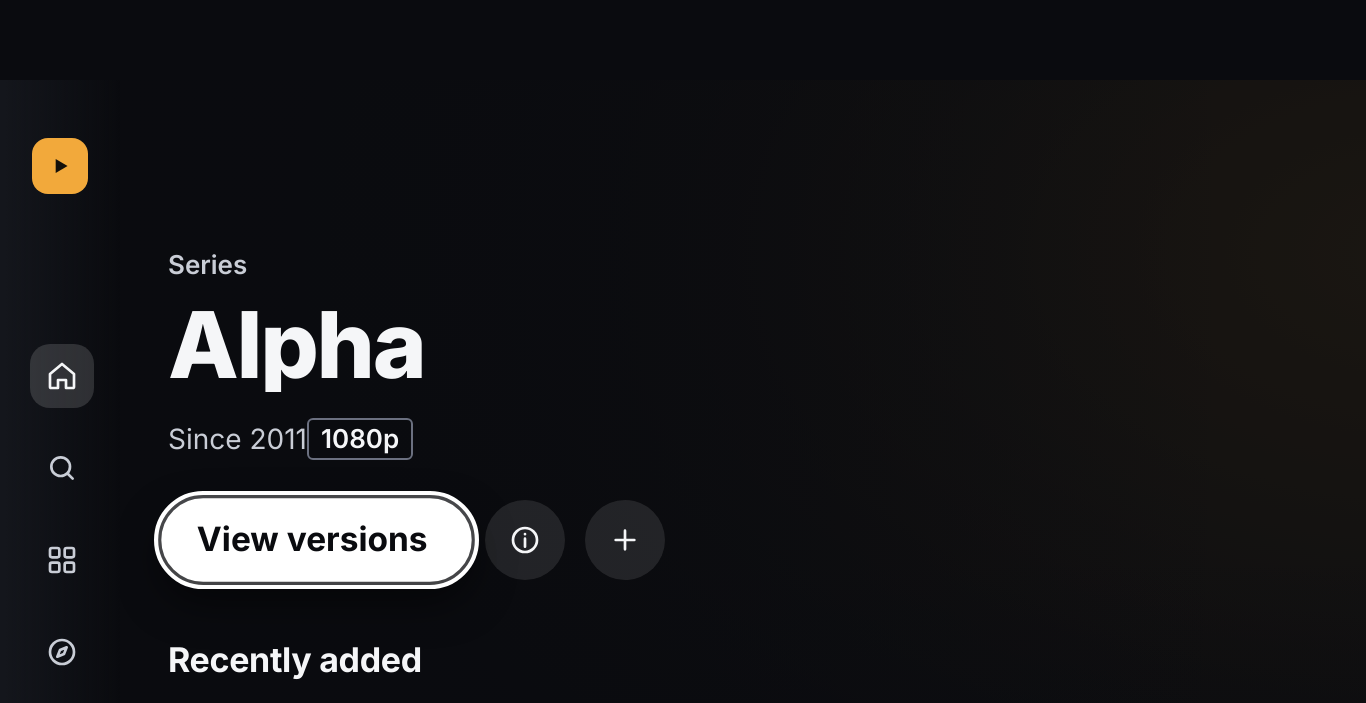
TV Info season drill-down › keeps Back and Close on the first row and returns Back through the Back button too
The width and height of the screenshot is (1366, 703).
What coordinates should you click on to do the following:
click the button named "Info"
I would click on:
 (525, 540)
Its box is [485,500,565,580].
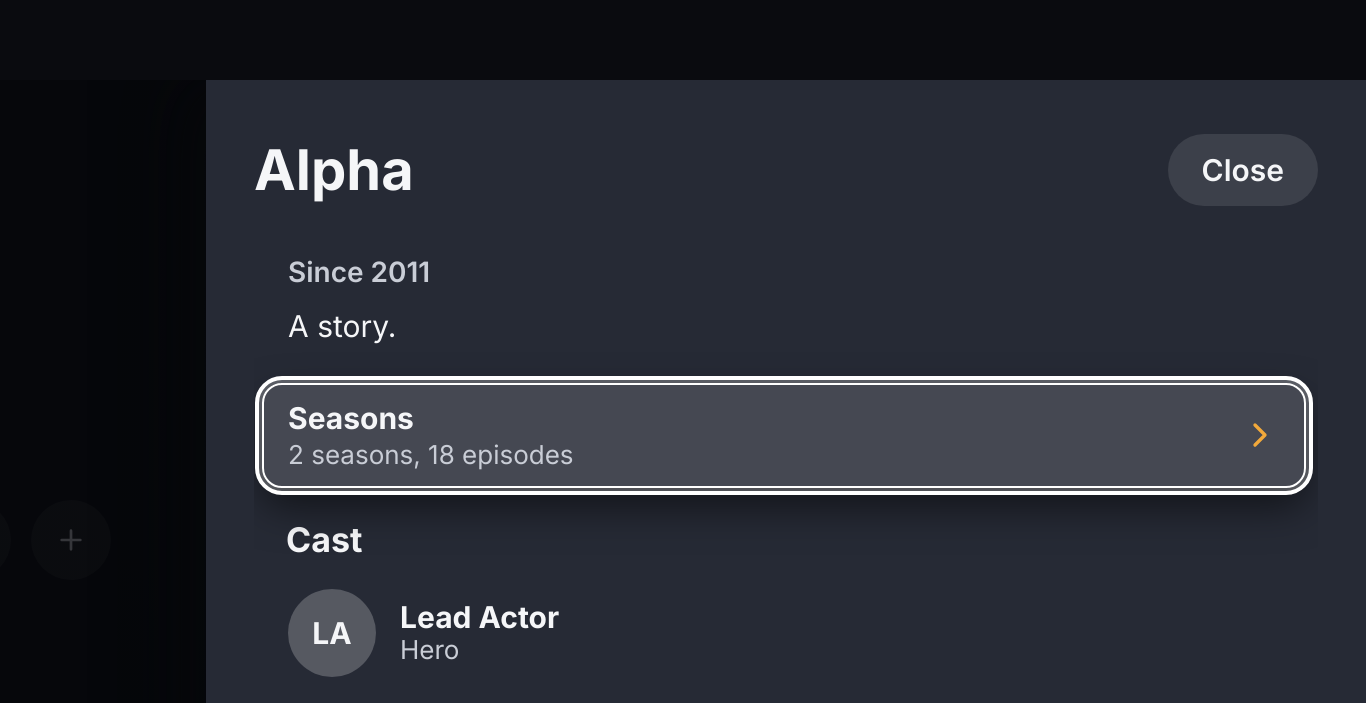
What coordinates should you click on to do the following:
click the button "Seasons 2 seasons, 18 episodes"
I would click on:
 (351, 418)
Its box is [262,383,1306,488].
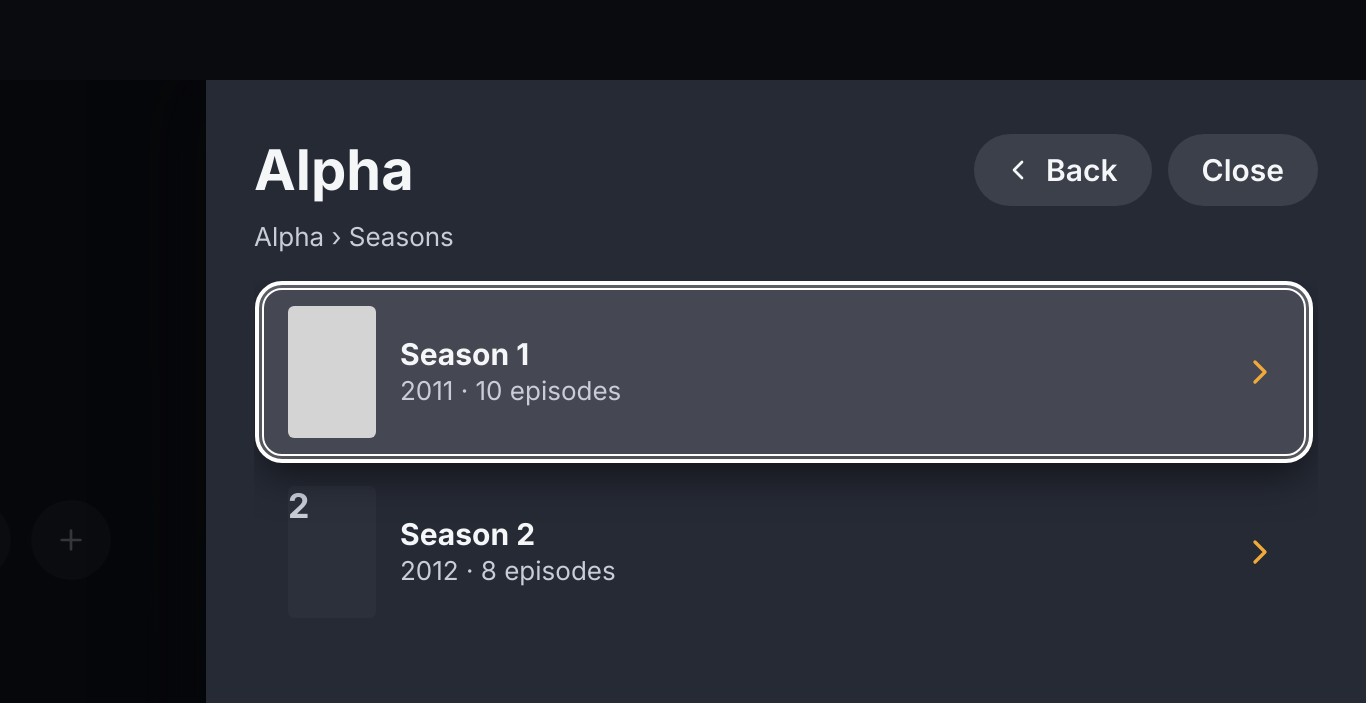
What coordinates should you click on to do the following:
click the button "Back"
I would click on:
 (1063, 170)
Its box is [974,134,1152,206].
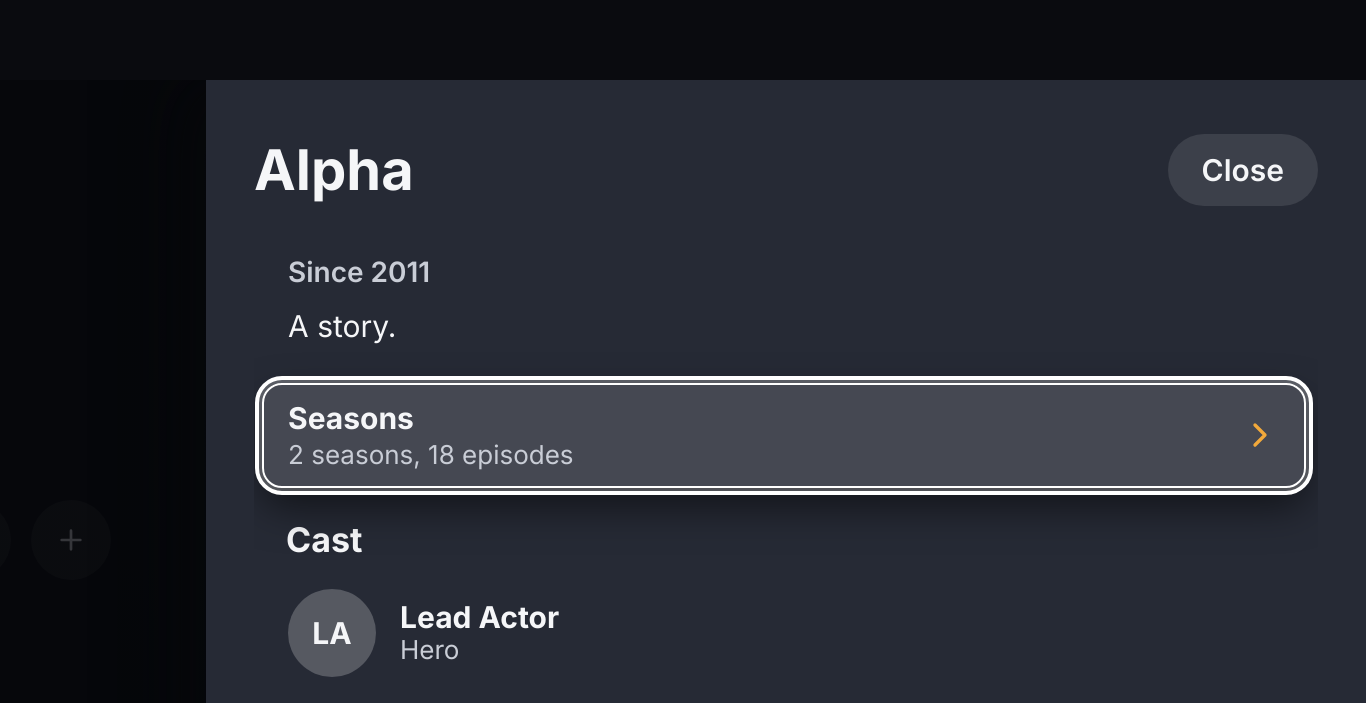
Result: the text with class "info-crumbs" is gone
